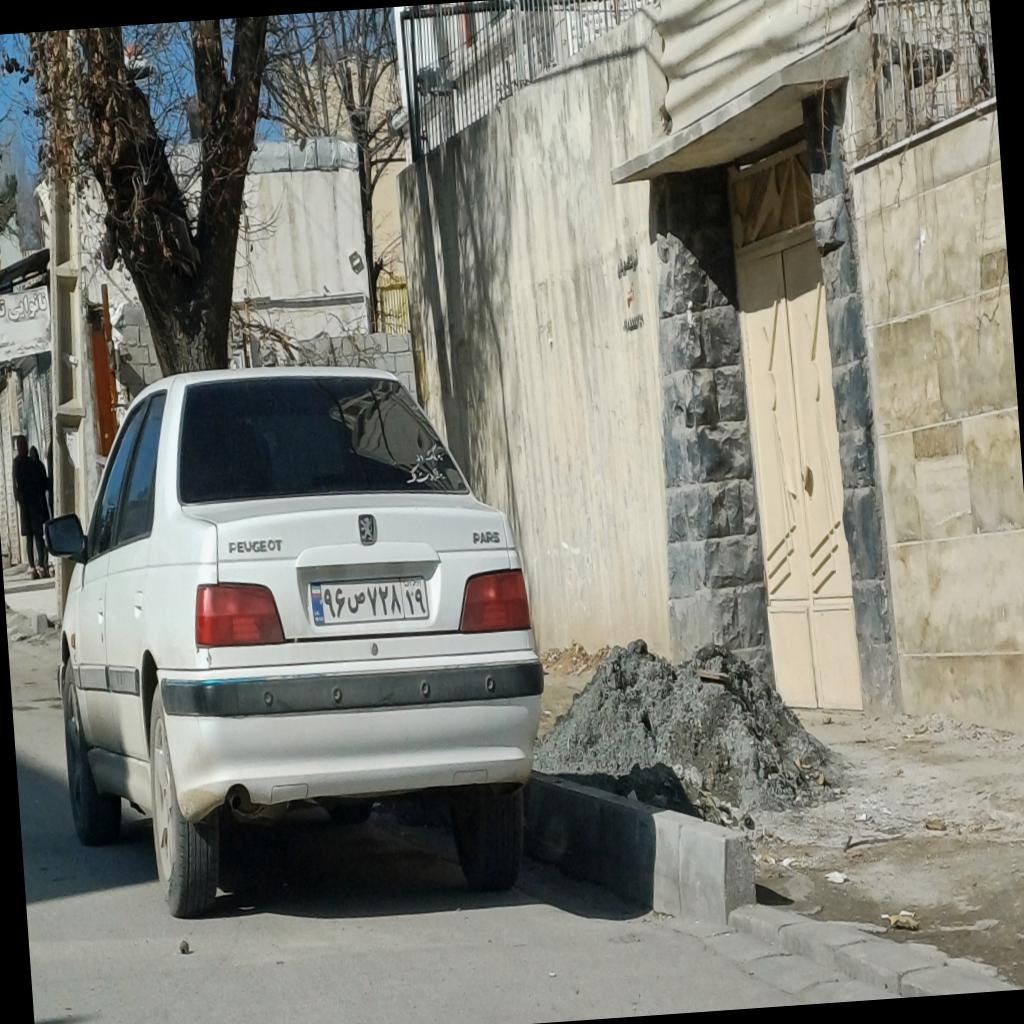Plates: (309, 572, 428, 626)
